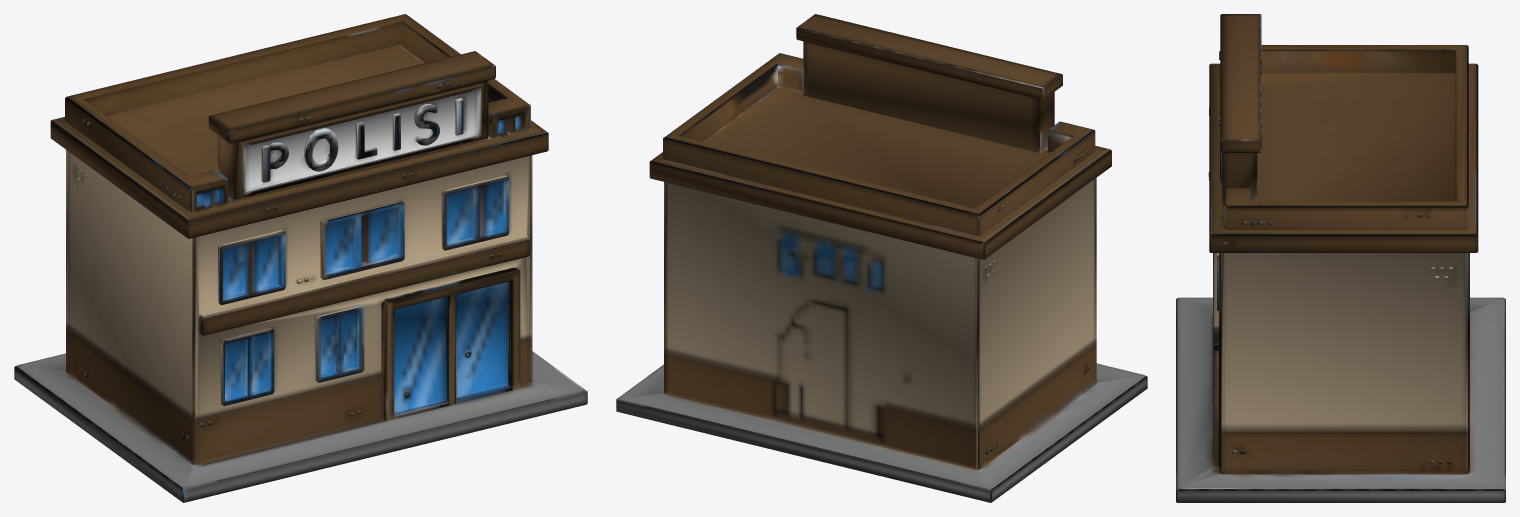
The model's file is kantor_polisi_1.glb.
3 renders of one model, left to right at view 1: azimuth 30°, elevation 25°; view 2: azimuth 150°, elevation 25°; view 3: azimuth 270°, elevation 25°, orthographic. The views are drawn at different scales.
Parts seen in each view (by area): view 1: tripo_node_25906b27; view 2: tripo_node_25906b27; view 3: tripo_node_25906b27.
Boxes of the visible parts, x1,y1,x2,y2 form: tripo_node_25906b27: [14, 14, 587, 502]; tripo_node_25906b27: [616, 14, 1147, 502]; tripo_node_25906b27: [1176, 14, 1505, 502].
Bounding box in the file's own units: 1 × 0.8006 × 0.7246.
Materials: 1 (1 with a texture image).
